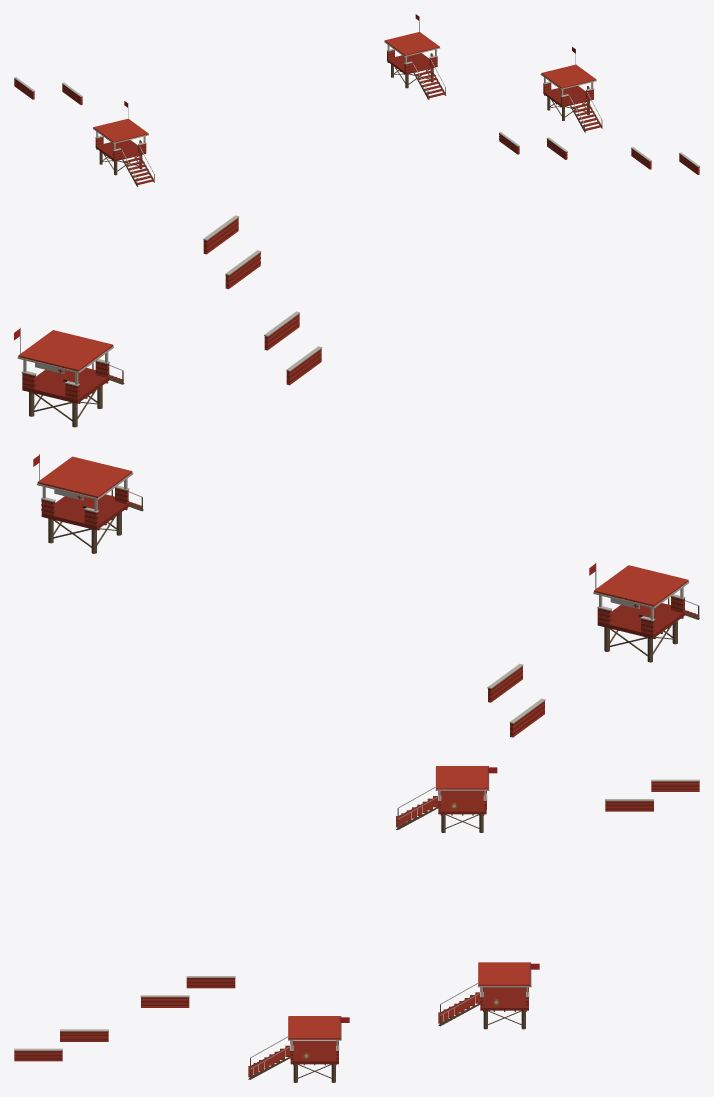
File: gb-towers.glb
3 views of the same model, one above another, from view 1: azimuth 30°, elevation 25°; view 2: azimuth 150°, elevation 25°; view 3: azimuth 270°, elevation 25° (orthographic). The views are drawn at different scales.
Parts seen in each view (by area): view 1: gb-towers; view 2: gb-towers; view 3: gb-towers.
Part boxes in pixels (x1,y1,x2,y2): gb-towers: (14,14,699,186); gb-towers: (14,215,699,737); gb-towers: (14,766,699,1082).
Bounding box in the file's own units: 61.08 × 7.1 × 64.99.
